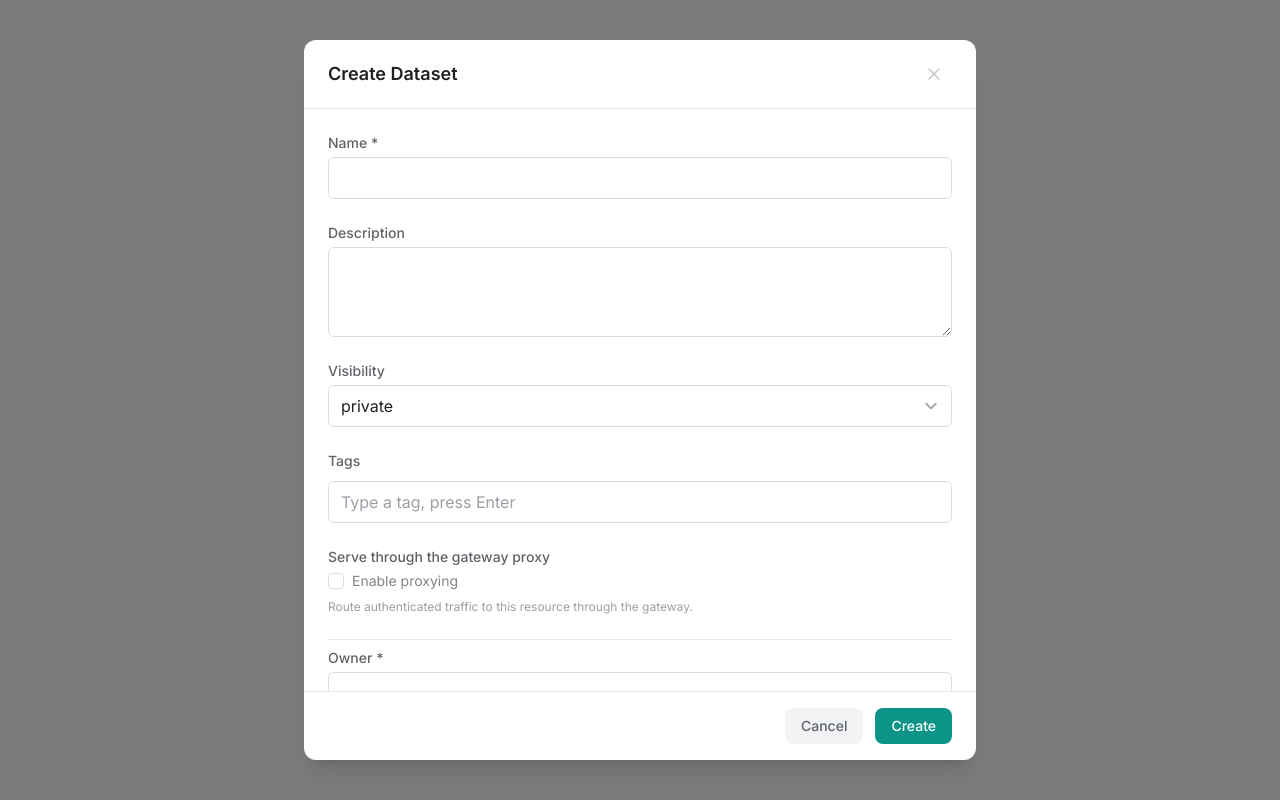
it: CustomEntityForm › reveals the allowed-groups chip input for group-restricted visibility
Expected: the text "Allowed Groups" is not shown
Select "group-restricted" in the dropdown showing "private". click: (640, 406)
box: [328,385,952,427]
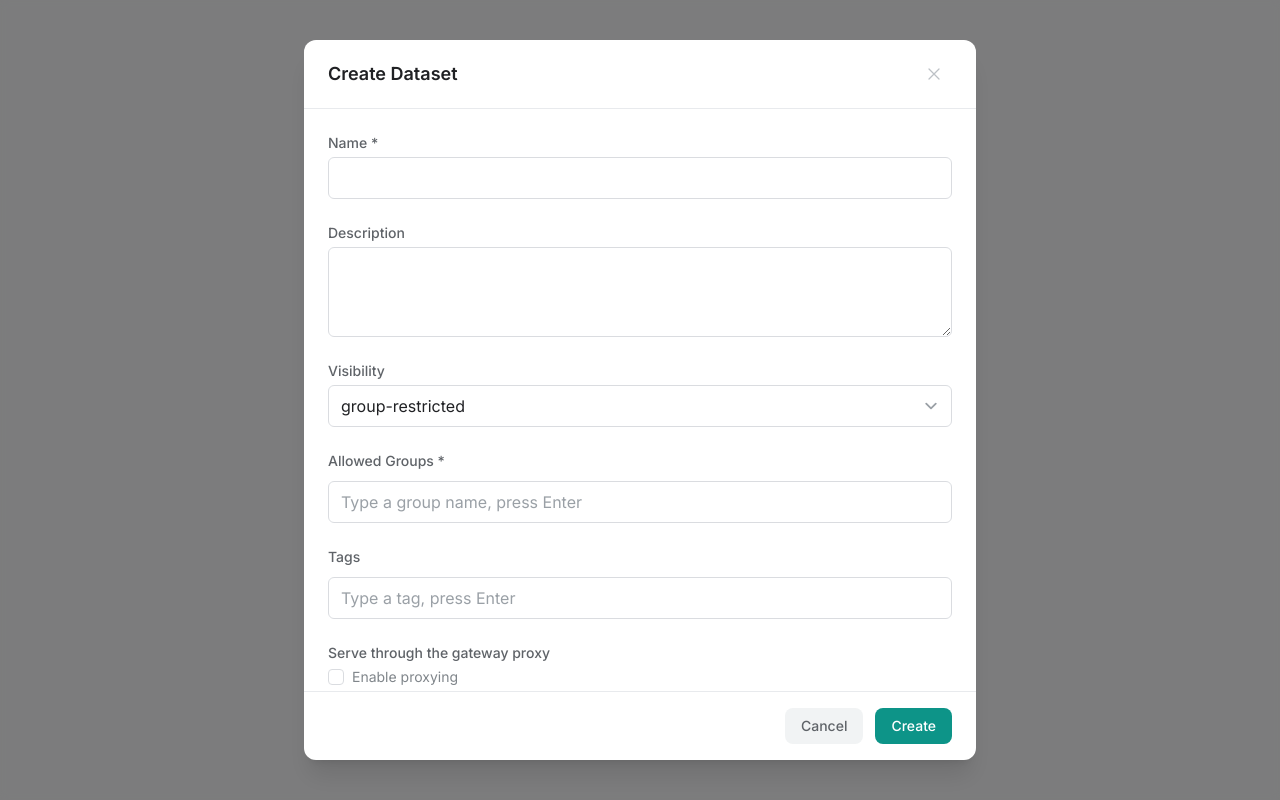
Result: the text "Allowed Groups *" is shown at [328,452,445,469]
